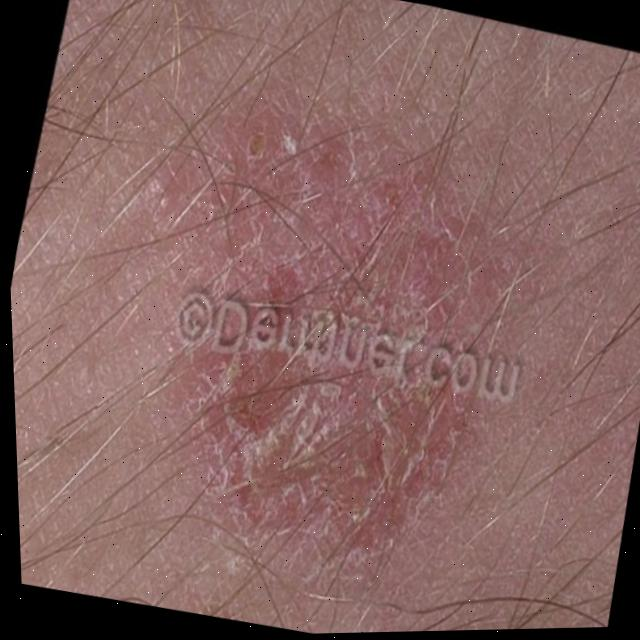Eczema: (73, 87, 539, 607)
